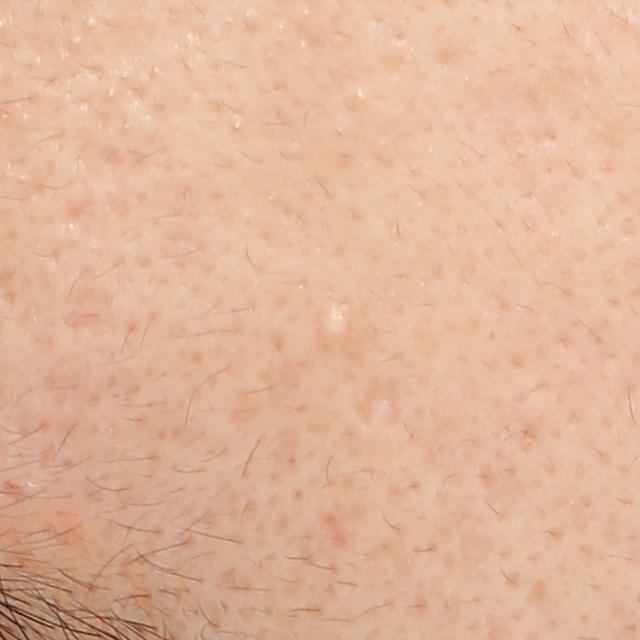atrophic_scar: (255, 356, 325, 416), (349, 368, 413, 433), (65, 288, 115, 330)
